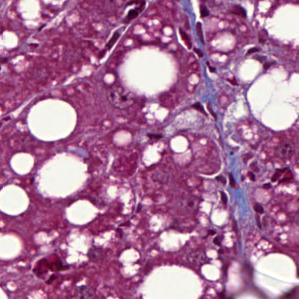ballooning: (243, 64, 297, 133), (117, 44, 181, 102)
